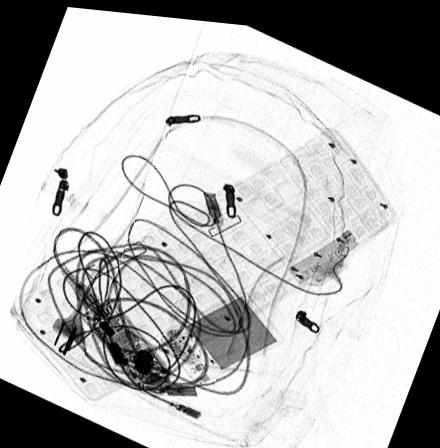Powerbank: (158, 286, 284, 383)
